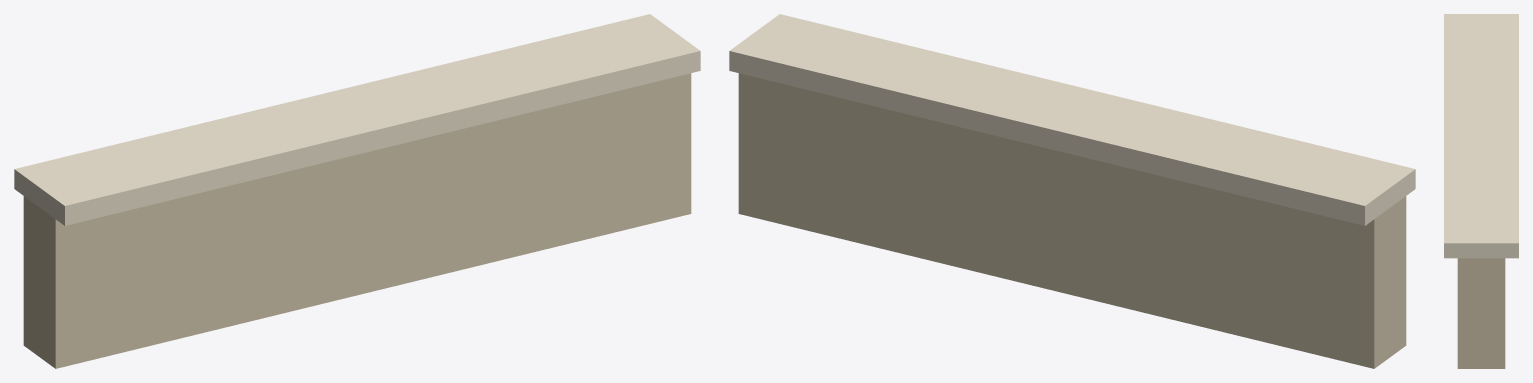
The model's file is parapet.glb.
3 views of the same model, side by side, from view 1: azimuth 30°, elevation 25°; view 2: azimuth 150°, elevation 25°; view 3: azimuth 270°, elevation 25° (orthographic). The views are drawn at different scales.
Parts seen in each view (by area): view 1: parapet; view 2: parapet; view 3: parapet.
Part boxes in pixels (box(x1,y1,x2,y2)): parapet: box(14, 14, 700, 368); parapet: box(729, 14, 1415, 368); parapet: box(1444, 14, 1518, 368).
Bounding box in the file's own units: 4 × 1.02 × 0.55.
